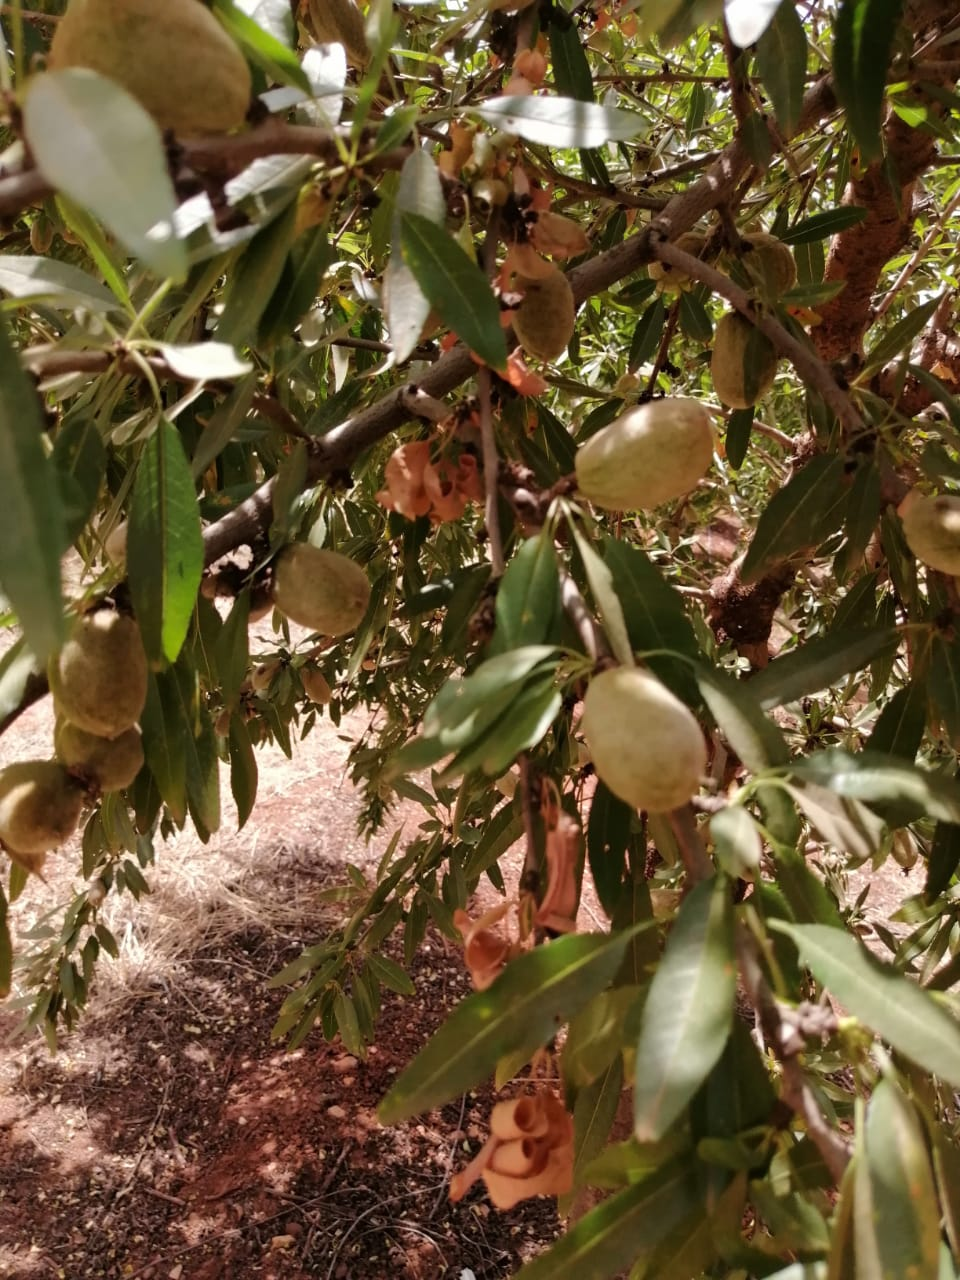chancre fusicocum: (432, 45, 594, 1206)
